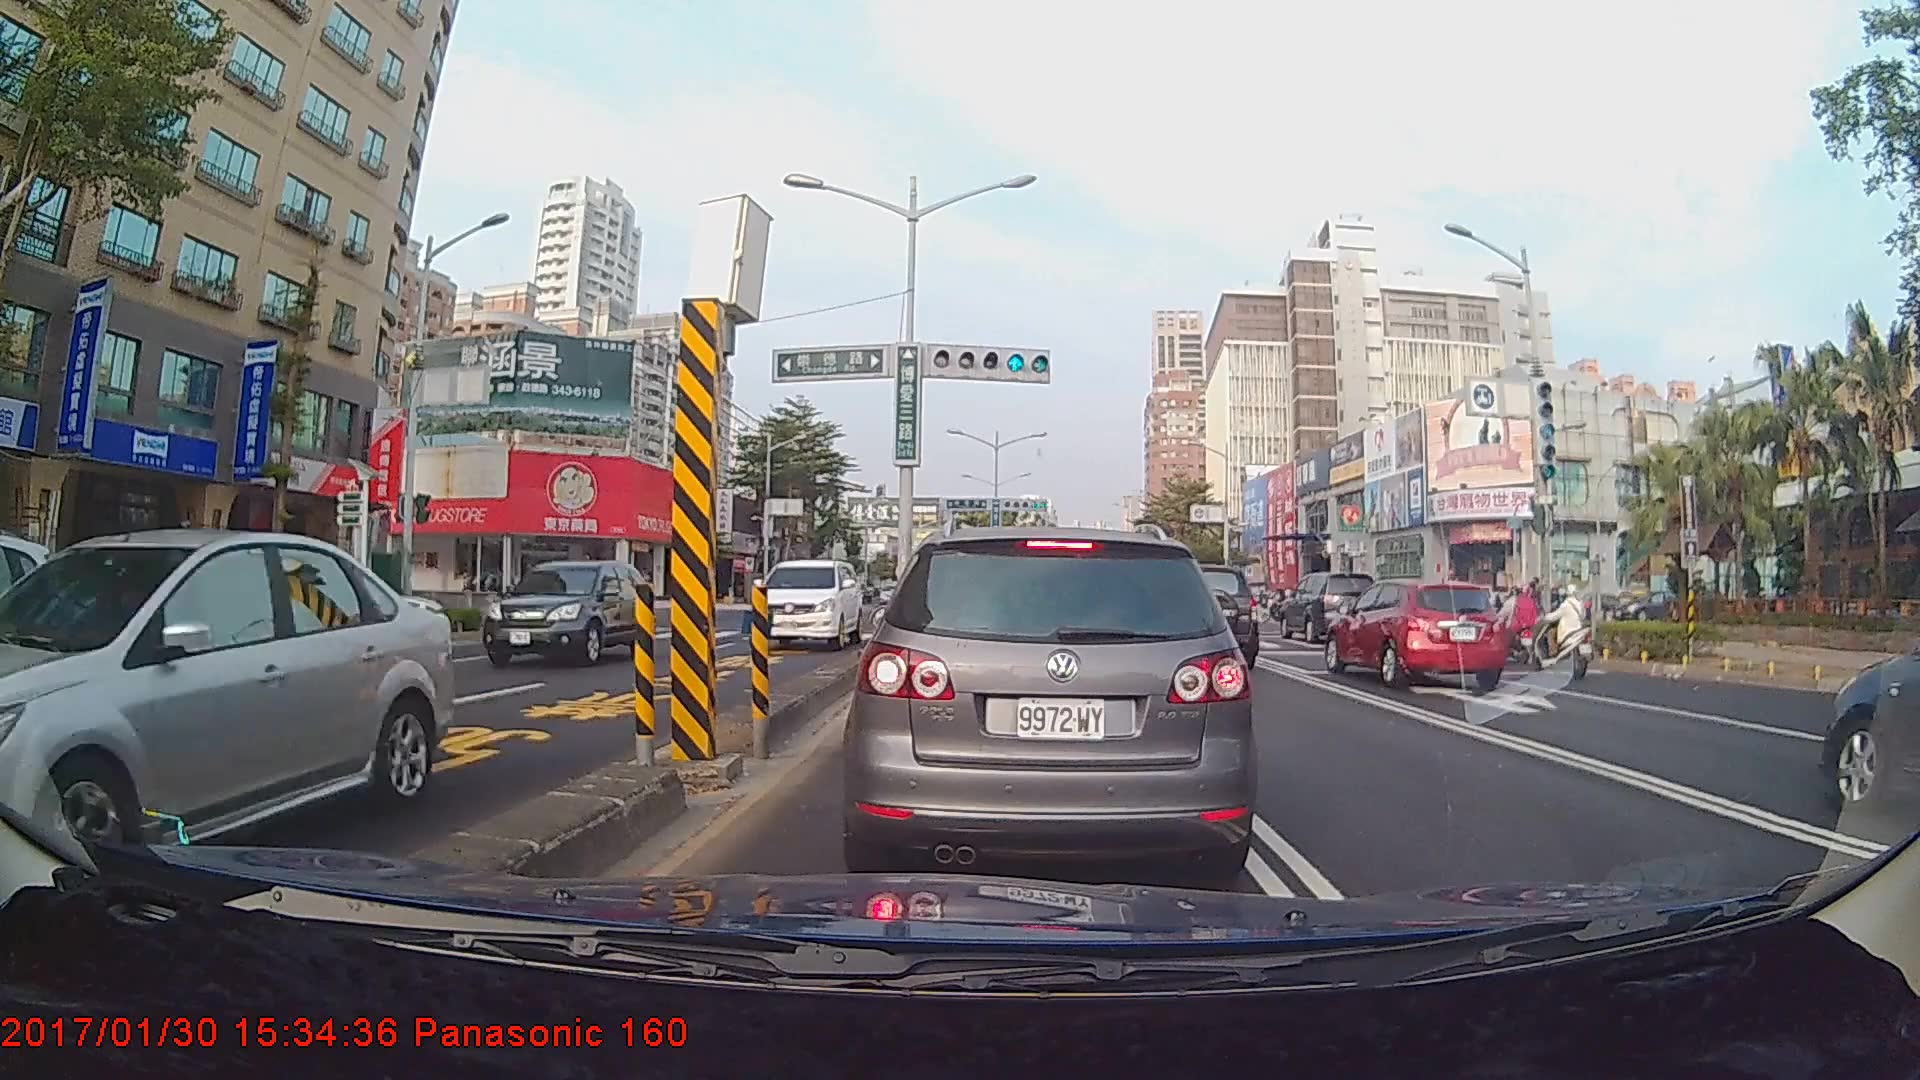rider: (1523, 586, 1594, 685)
vehicle: (0, 526, 453, 905), (855, 523, 1252, 875), (1821, 573, 1919, 823), (1322, 577, 1508, 689), (479, 558, 653, 666), (1144, 562, 1260, 673), (745, 557, 863, 649), (1276, 569, 1378, 642)
